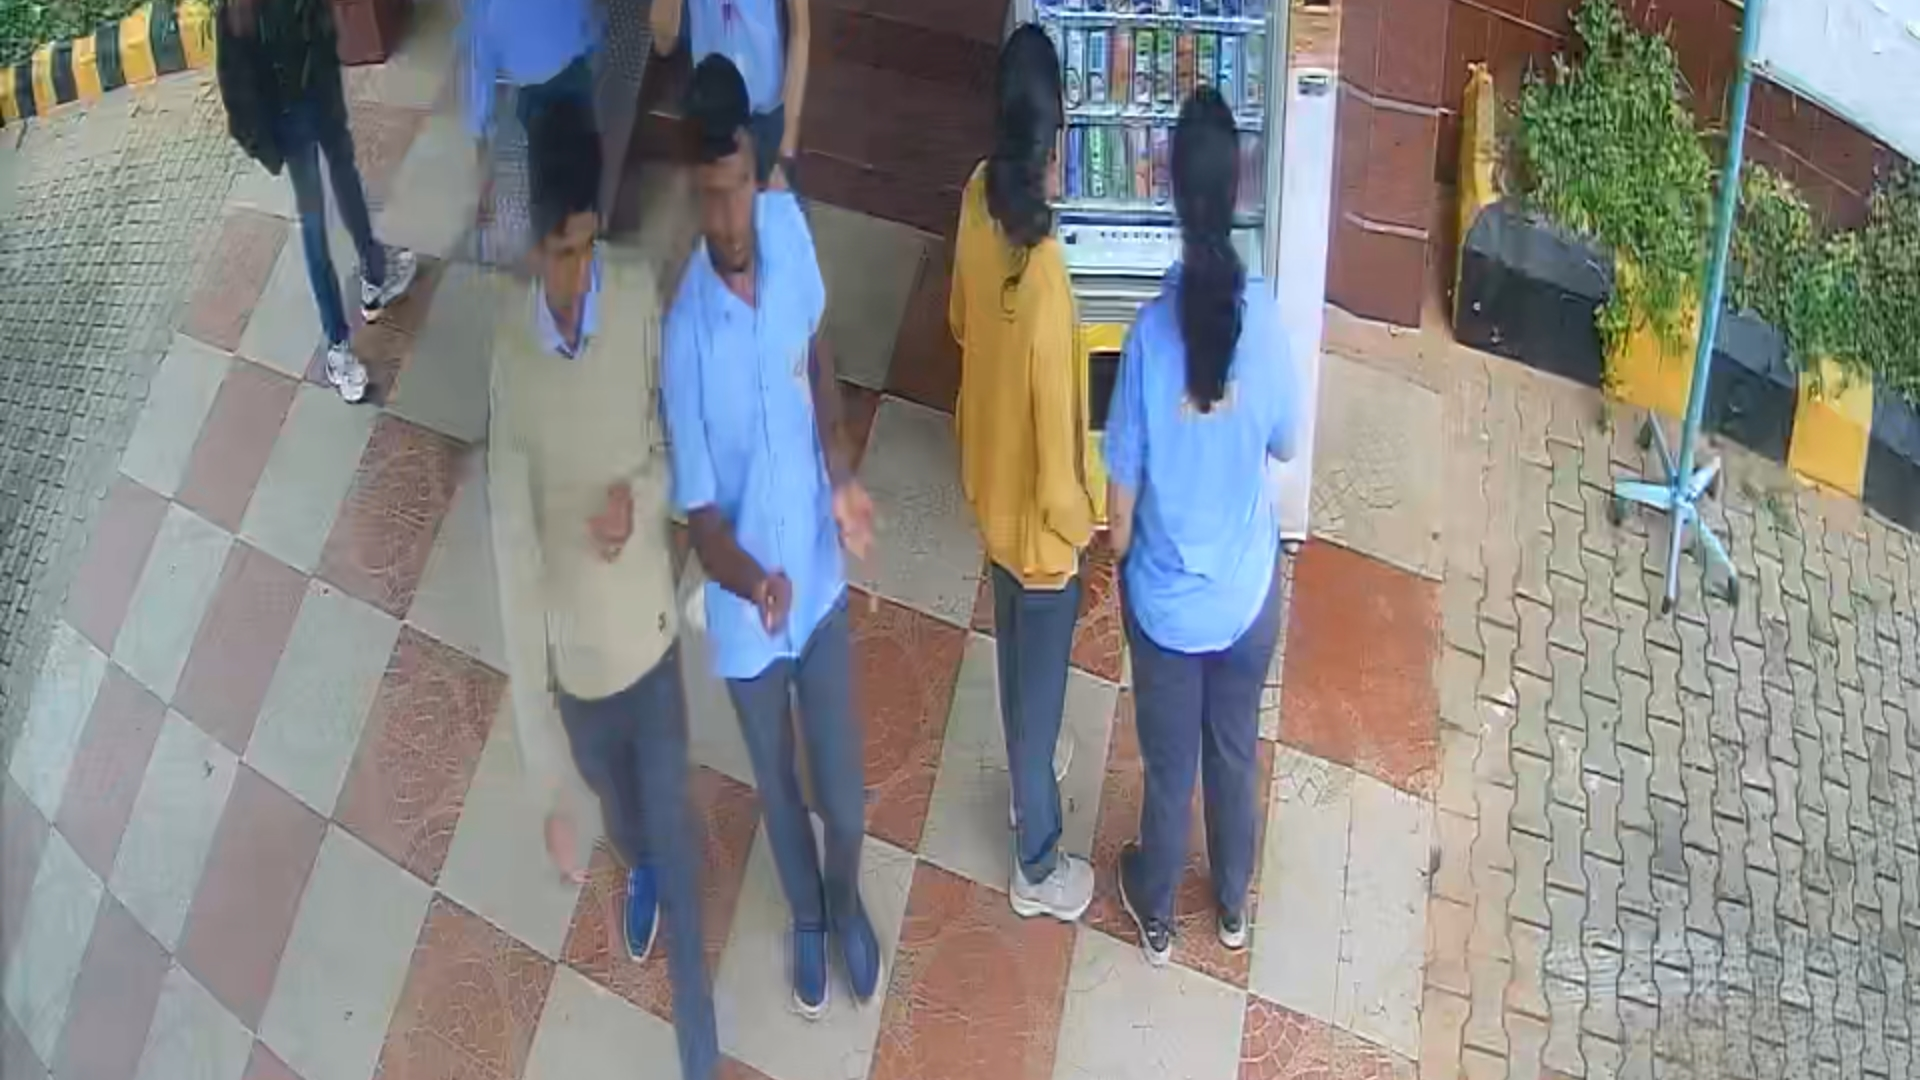intruder: (473, 88, 733, 1054), (666, 55, 905, 1005)
